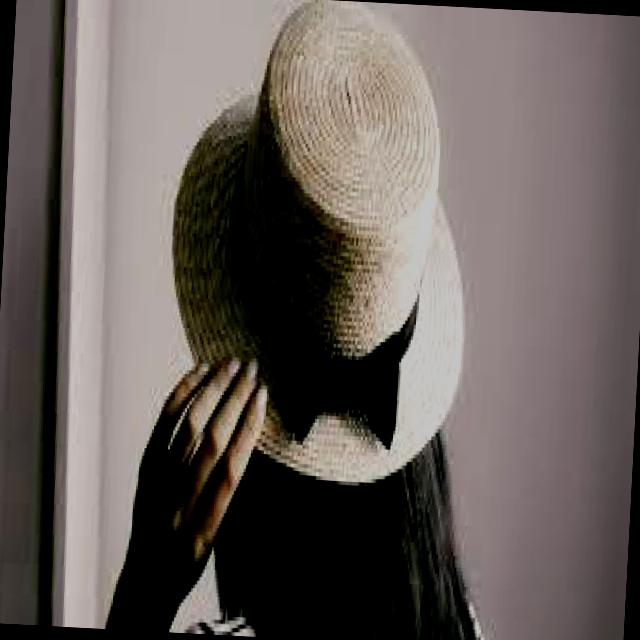hat: (173, 0, 465, 485)
